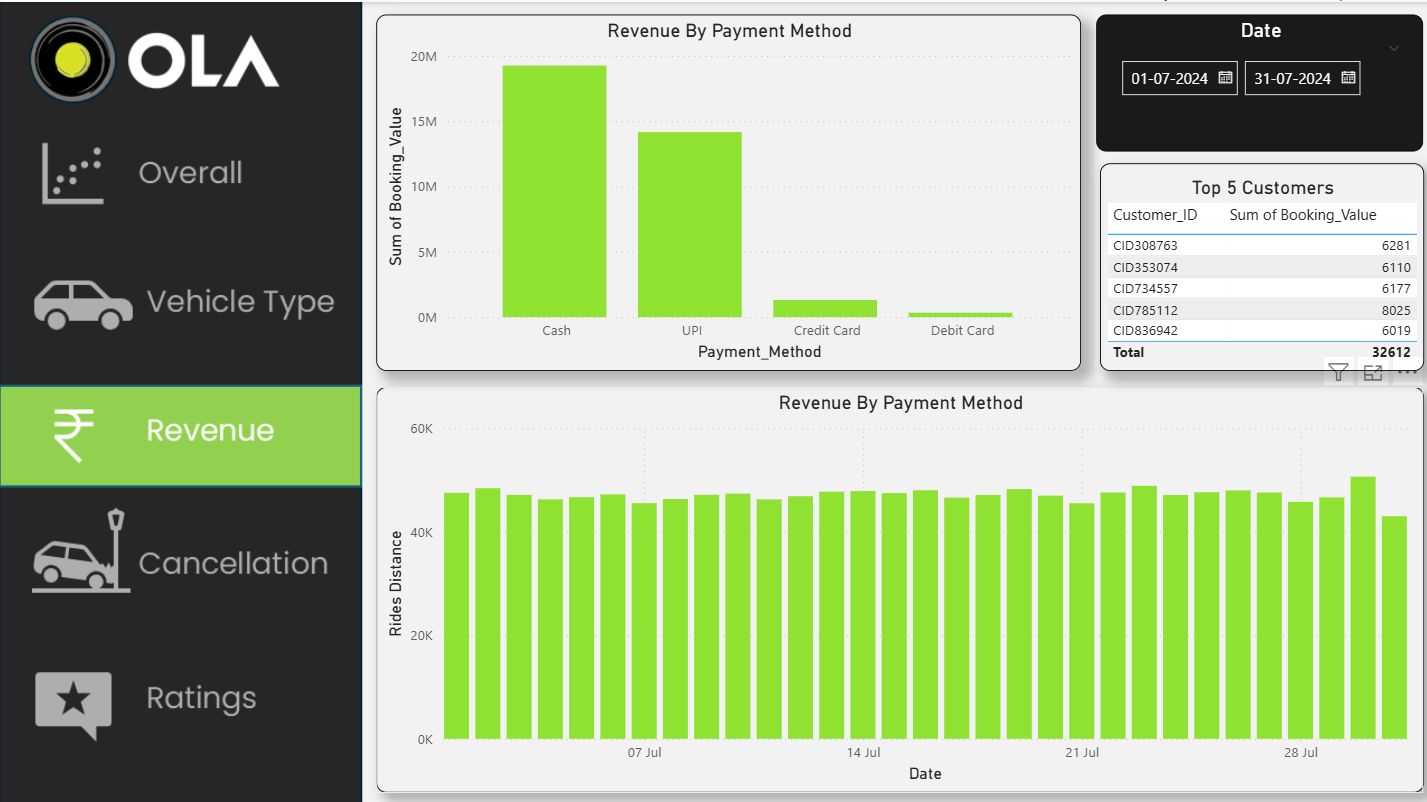

What the dashboard file says about the page in this screenshot:
{"tool":"powerbi","page":{"name":"Revenue","canvas":[1280,720],"ordinal":2},"visuals":[{"type":"clusteredColumnChart","title":"Revenue By Payment Method","fields":{"Y":["Sum(July.Booking_Value)"],"Category":["July.Payment_Method"]},"box":[336.2,11,629.8,318.4],"z":0},{"type":"clusteredColumnChart","title":"Revenue By Payment Method","fields":{"Y":["Sum(July.Ride_Distance)"],"Category":["July.Date"]},"box":[336.2,344.4,935.9,362.3],"z":1000},{"type":"slicer","title":"Date","fields":{"Values":["July.Date"]},"box":[979.8,11,292.3,122.1],"z":2000},{"type":"tableEx","title":"Top 5 Customers","fields":{"Values":["July.Customer_ID","Sum(July.Booking_Value)"]},"box":[982.5,144.1,289.5,185.2],"z":3000},{"type":"actionButton","box":[0,101.4,327.1,107.1],"z":3001},{"type":"actionButton","box":[0,444.3,327.1,107.1],"z":3003},{"type":"actionButton","box":[0,570,327.1,107.1],"z":3004},{"type":"actionButton","box":[0,208.6,327.1,107.1],"z":3005}]}

Visuals, with their boxes in screenshot pixels (x1, y1, x2, y2), scaled from the page's 1280x720 canvas onto the 1427x802 screenshot:
"Revenue By Payment Method" clusteredColumnChart: {"x1": 375, "y1": 12, "x2": 1077, "y2": 367}
"Revenue By Payment Method" clusteredColumnChart: {"x1": 375, "y1": 384, "x2": 1418, "y2": 787}
"Date" slicer: {"x1": 1092, "y1": 12, "x2": 1418, "y2": 148}
"Top 5 Customers" tableEx: {"x1": 1095, "y1": 161, "x2": 1418, "y2": 367}
actionButton: {"x1": 0, "y1": 113, "x2": 365, "y2": 232}
actionButton: {"x1": 0, "y1": 495, "x2": 365, "y2": 614}
actionButton: {"x1": 0, "y1": 635, "x2": 365, "y2": 754}
actionButton: {"x1": 0, "y1": 232, "x2": 365, "y2": 352}
